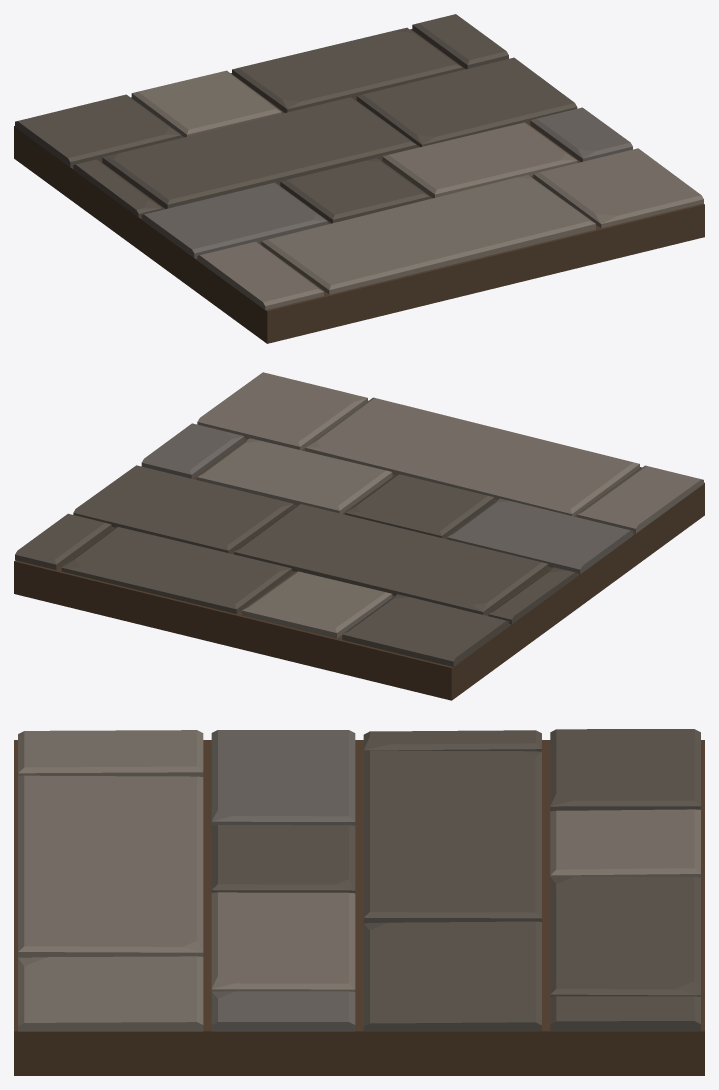
File: mdvl_nature_paving_01.glb
3 views of the same model, one above another, from view 1: azimuth 30°, elevation 25°; view 2: azimuth 150°, elevation 25°; view 3: azimuth 270°, elevation 25° (orthographic). The views are drawn at different scales.
Parts seen in each view (by area): view 1: mdvl_nature_paving_01; view 2: mdvl_nature_paving_01; view 3: mdvl_nature_paving_01.
Boxes of the visible parts, <box> form: mdvl_nature_paving_01: <box>14,14,704,343</box>; mdvl_nature_paving_01: <box>14,372,704,700</box>; mdvl_nature_paving_01: <box>14,729,704,1075</box>.
Size of the model in its own units: 1 by 0.0886 by 1.
1 material, 1 textured.
